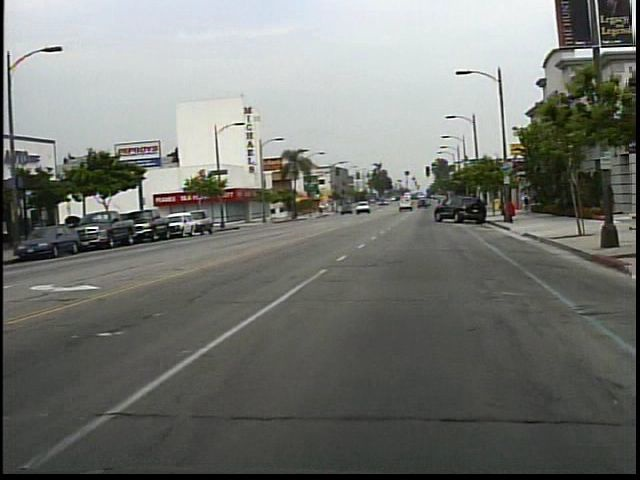person: (523, 188, 538, 218)
